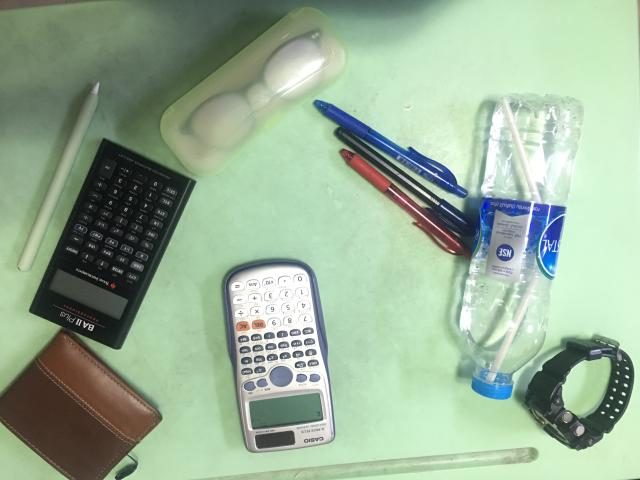Glasses: (160, 8, 346, 176)
Pen: (314, 102, 475, 257)
Wallet: (0, 330, 162, 479)
Watch: (521, 336, 635, 451)
bottle: (460, 94, 584, 399)
